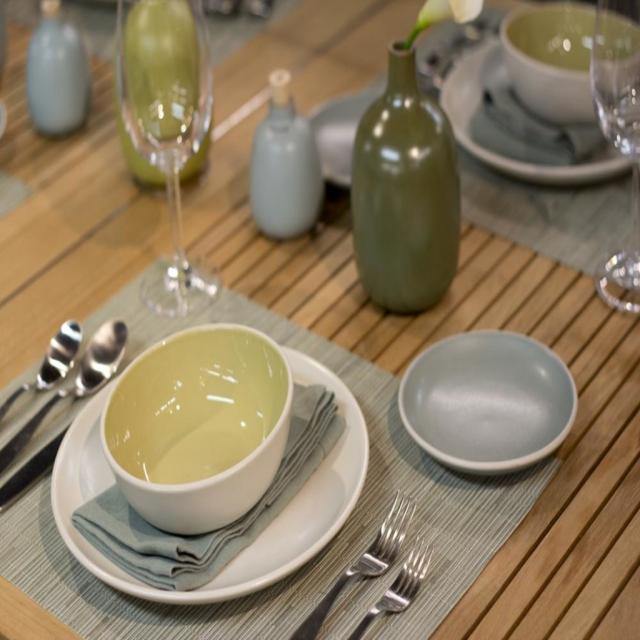ceramic plate: (43, 315, 370, 640)
